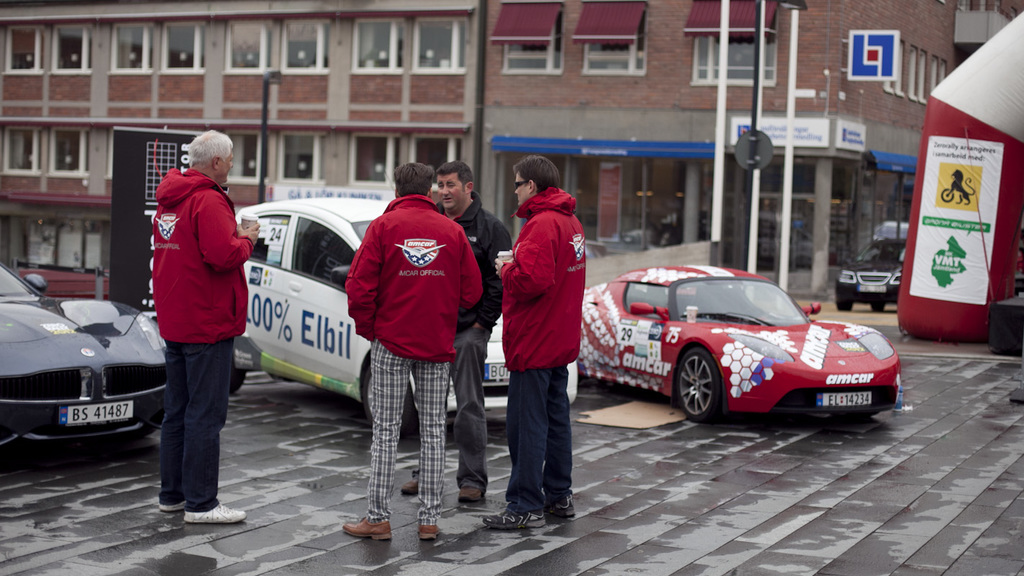Car: (234, 188, 585, 436), (562, 258, 895, 426), (0, 256, 175, 451), (833, 232, 900, 311)
